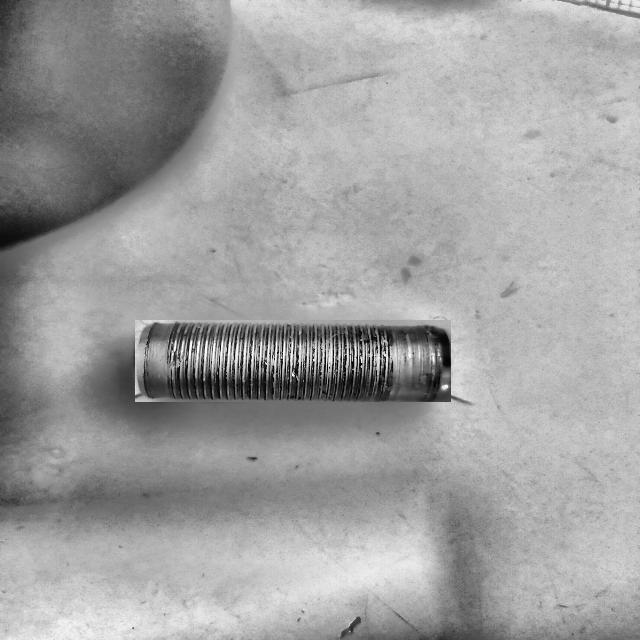Broken: (135, 320, 451, 402)
